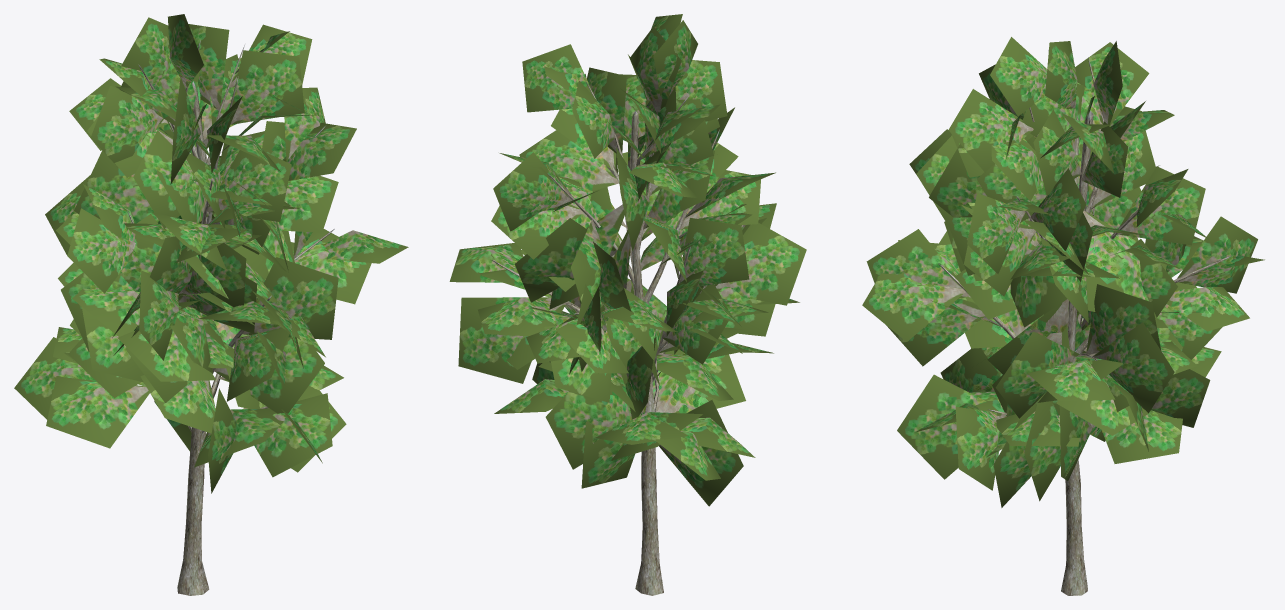
The model's file is Red_Maple_Young_LowPoly.glb.
3 renders of one model, left to right at view 1: azimuth 30°, elevation 25°; view 2: azimuth 150°, elevation 25°; view 3: azimuth 270°, elevation 25°, orthographic. The views are drawn at different scales.
Parts seen in each view (by area): view 1: Red_Maple_Mobile_Young_6; view 2: Red_Maple_Mobile_Young_6; view 3: Red_Maple_Mobile_Young_6.
Boxes of the visible parts, <box> form: Red_Maple_Mobile_Young_6: <box>14,14,408,595</box>; Red_Maple_Mobile_Young_6: <box>449,14,806,595</box>; Red_Maple_Mobile_Young_6: <box>862,37,1264,595</box>.
Bounding box in the file's own units: 1.32 × 2.22 × 1.46.
3 materials, 3 textured.
